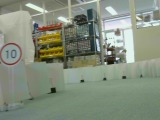speed_10: (1, 42, 21, 67)
